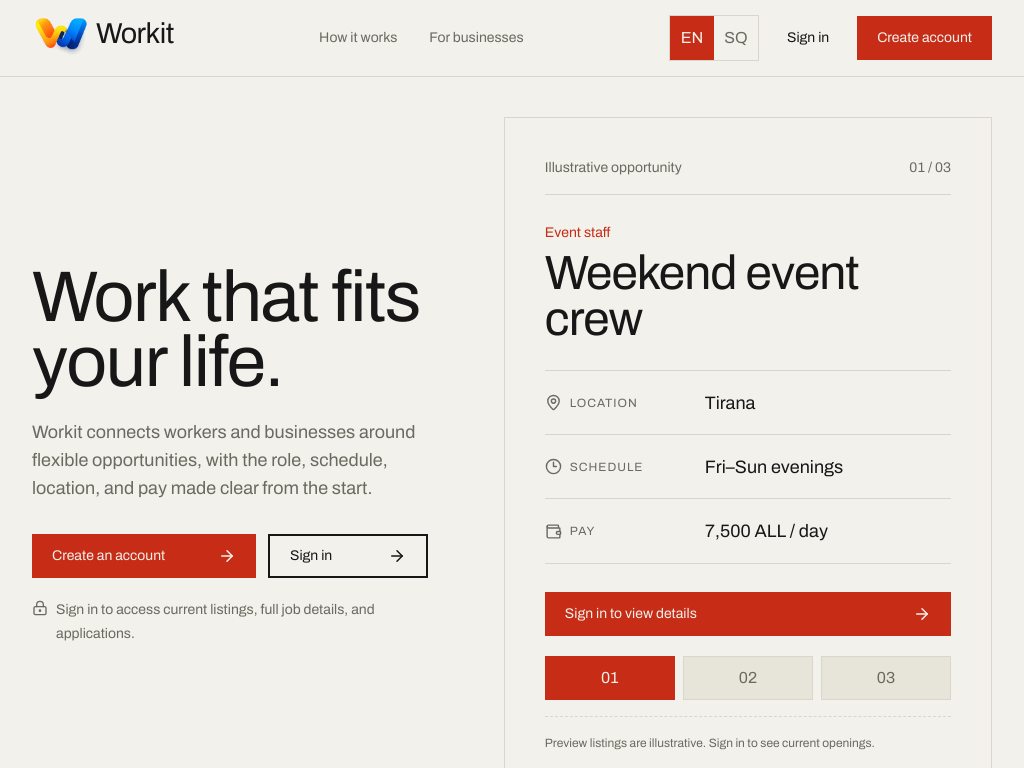
Test: renders the public home page by default
Expected: the heading "Work that fits your life." is shown, 32,265 -> 443,394
Expected: the heading "Weekend event crew" is shown, 545,247 -> 859,345
Click the button named "show morning barista" at coordinates (748, 678), box 683,656 -> 813,700
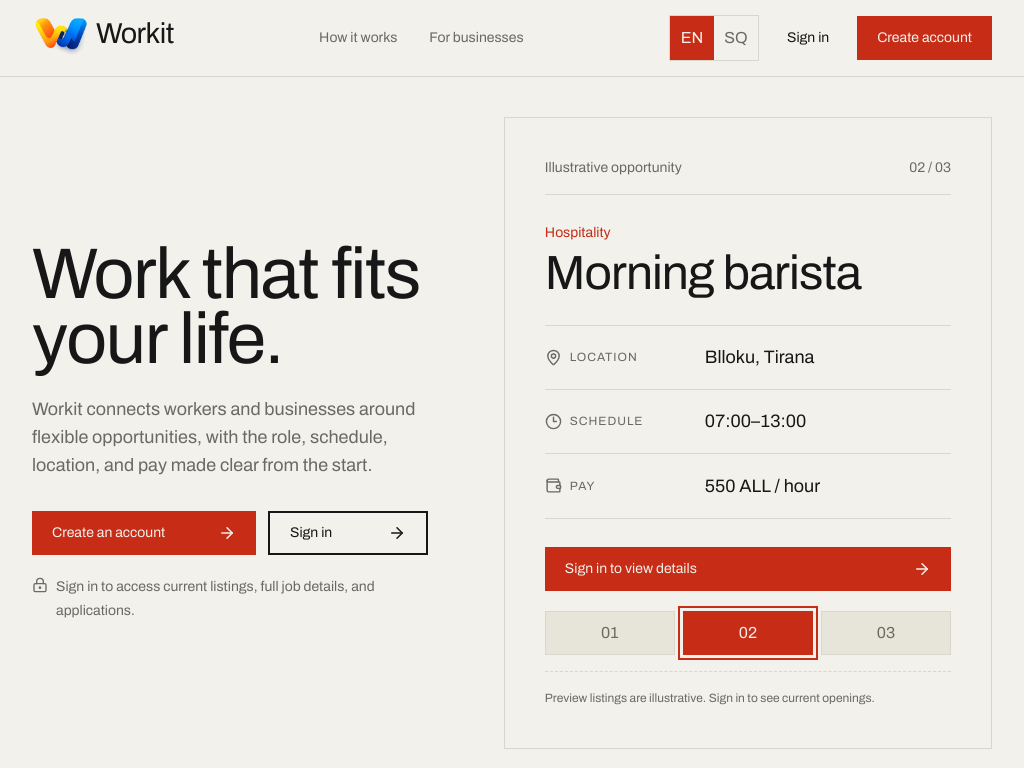
Now the heading "Morning barista" is shown, box 545,247 -> 861,299
